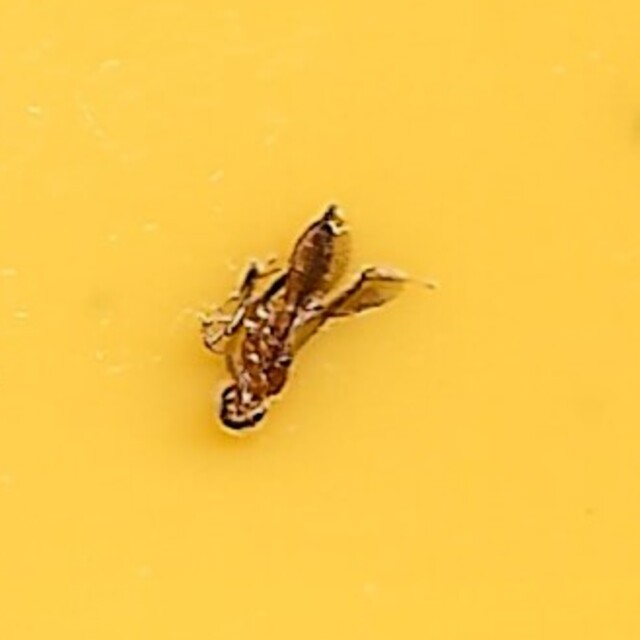Hymenoptera: (195, 201, 445, 439)
